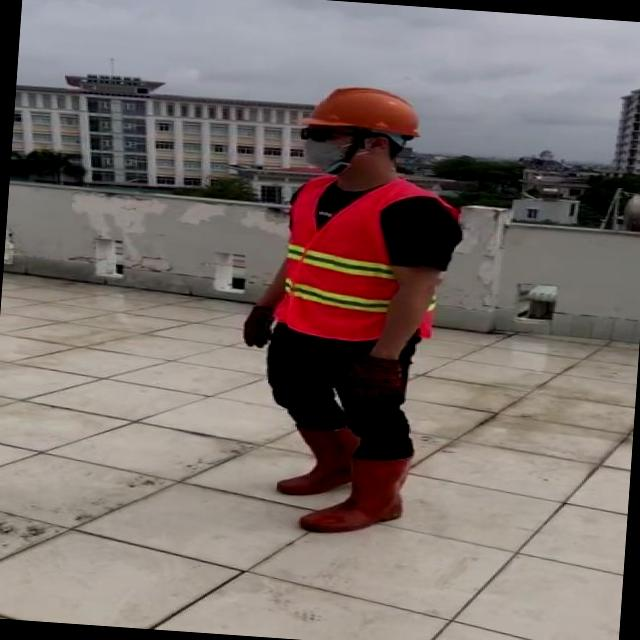boots: (300, 445, 418, 539), (270, 422, 357, 500)
gloves: (332, 337, 422, 416), (218, 296, 290, 354)
helmet: (294, 80, 427, 138)
person: (189, 39, 504, 594)
vest: (275, 177, 456, 343)
